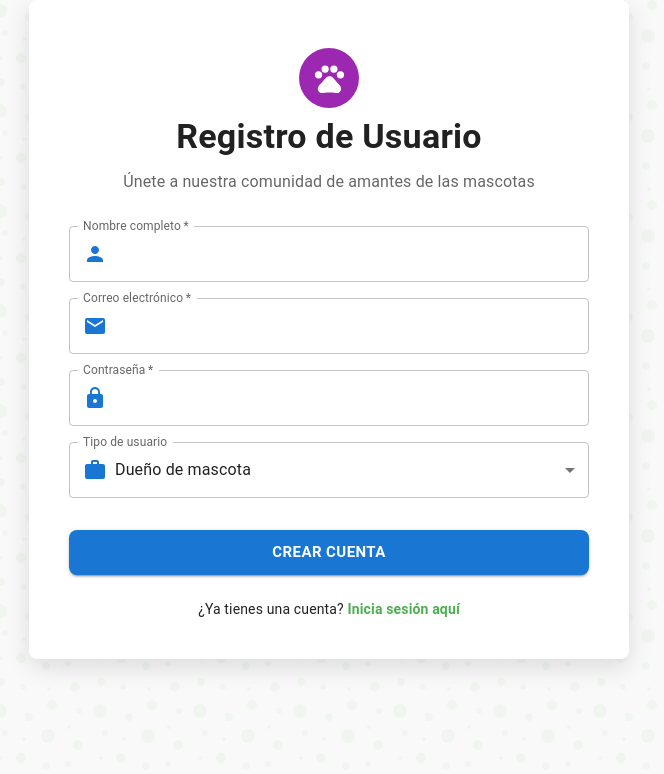
RegisterPage Component › should show error message on registration failure
The width and height of the screenshot is (664, 774).
Type "John Doe" into the field labelled "Nombre completo *" at (352, 254), box [115,226,589,282]
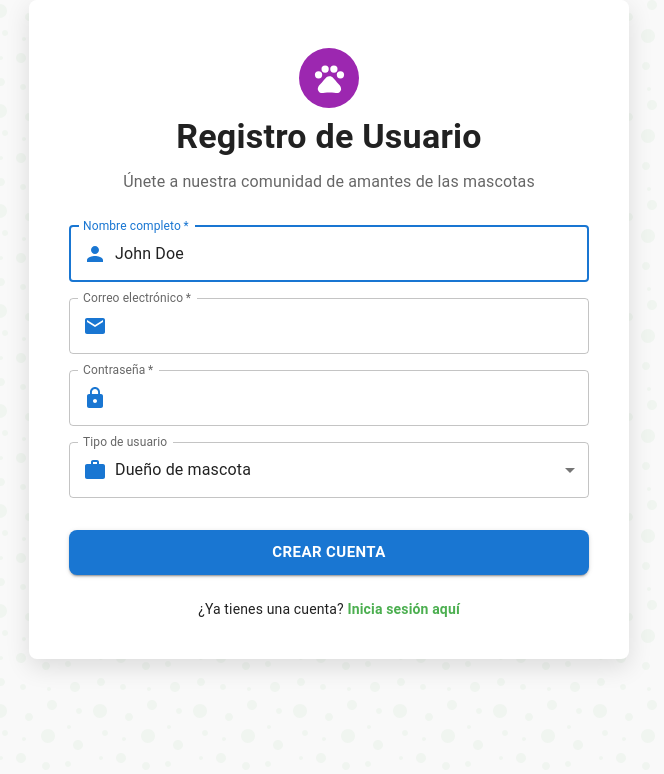
Type "john@example.com" into the field labelled "Correo electrónico *" at (352, 326), box [115,298,589,354]
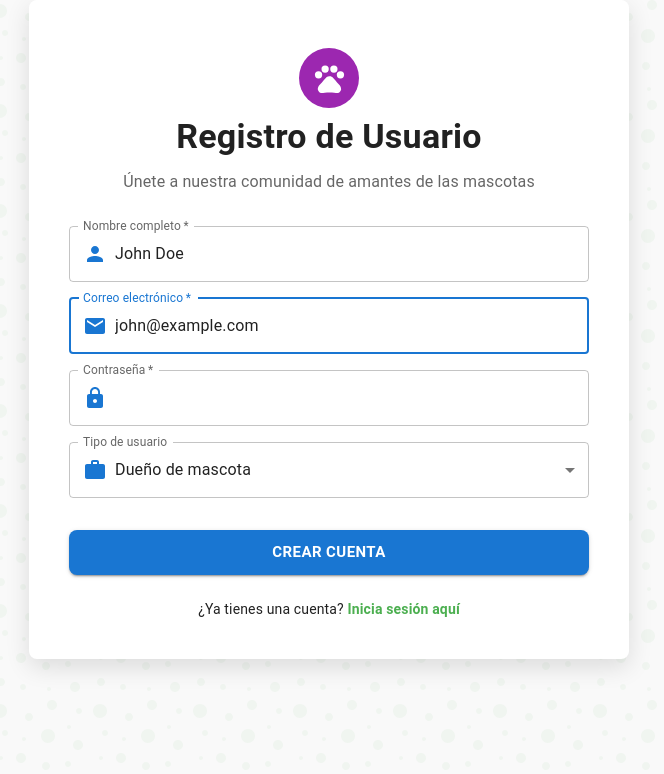
Type "password123" into the password field labelled "Contraseña *" at (352, 398), box [115,370,589,426]
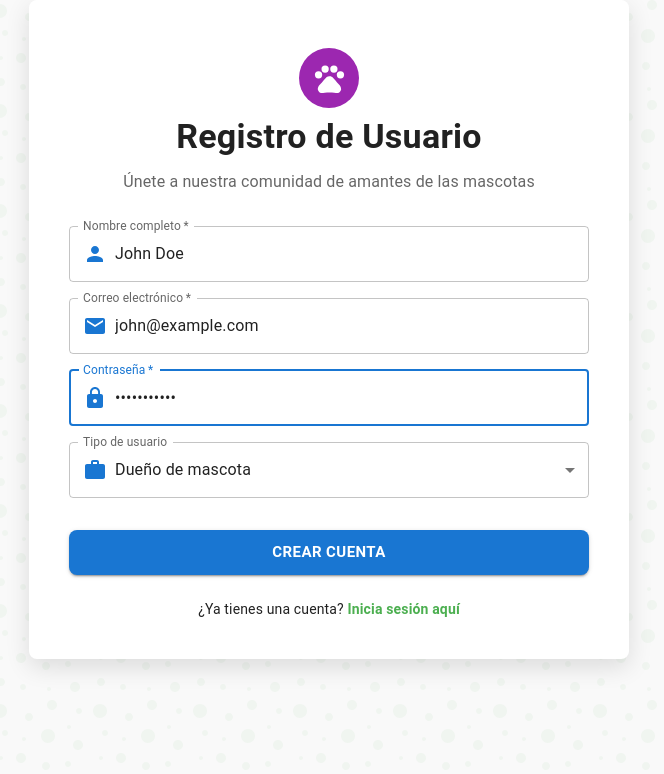
Click the button "Crear Cuenta" at (329, 553), box [69,530,589,575]
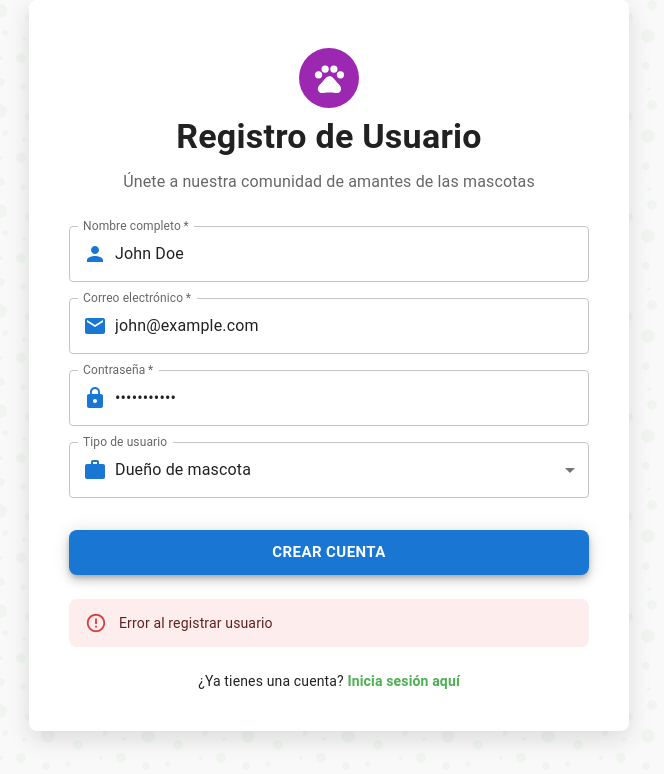
Check: the text "Error al registrar usuario" is shown, box [119,615,273,631]
